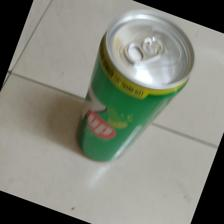7up: (75, 12, 195, 165)
